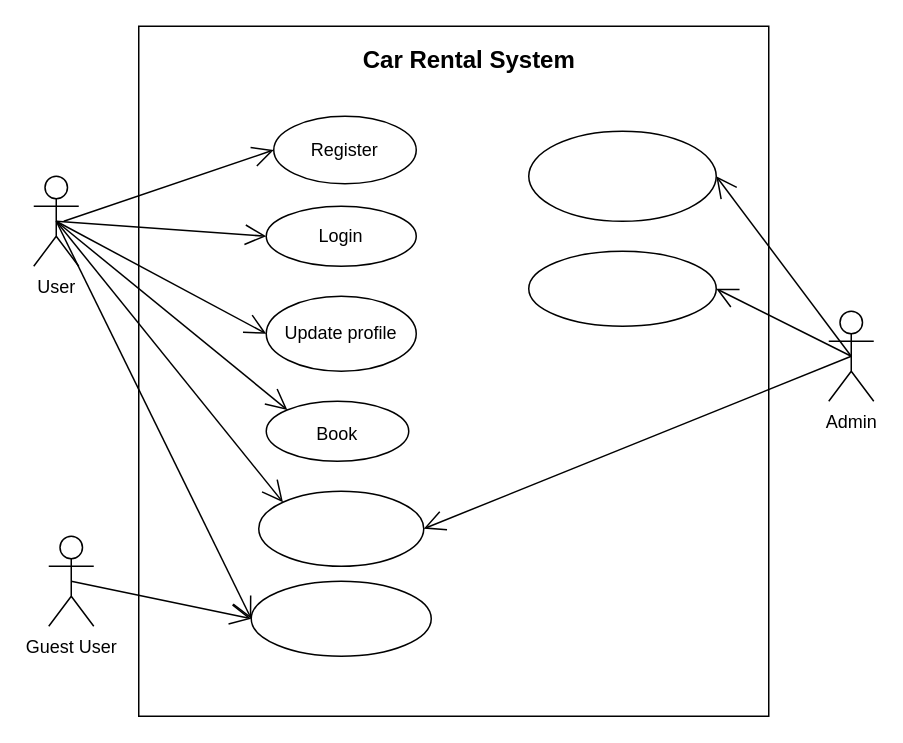
The diagram is 903 pixels wide and 743 high, and some of its shapes have lost their labels. Here are the shapes that lost their labels. From the top down, the centre of each, then its label:
point 621,175: Add and Manage Vehicle details
point 621,288: Update vehicle availability
point 340,528: Booking history
point 340,618: View and find car details
